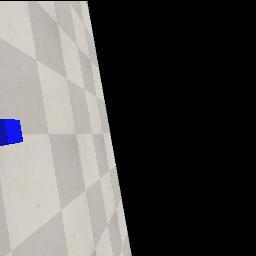box: (0, 119, 23, 146)
